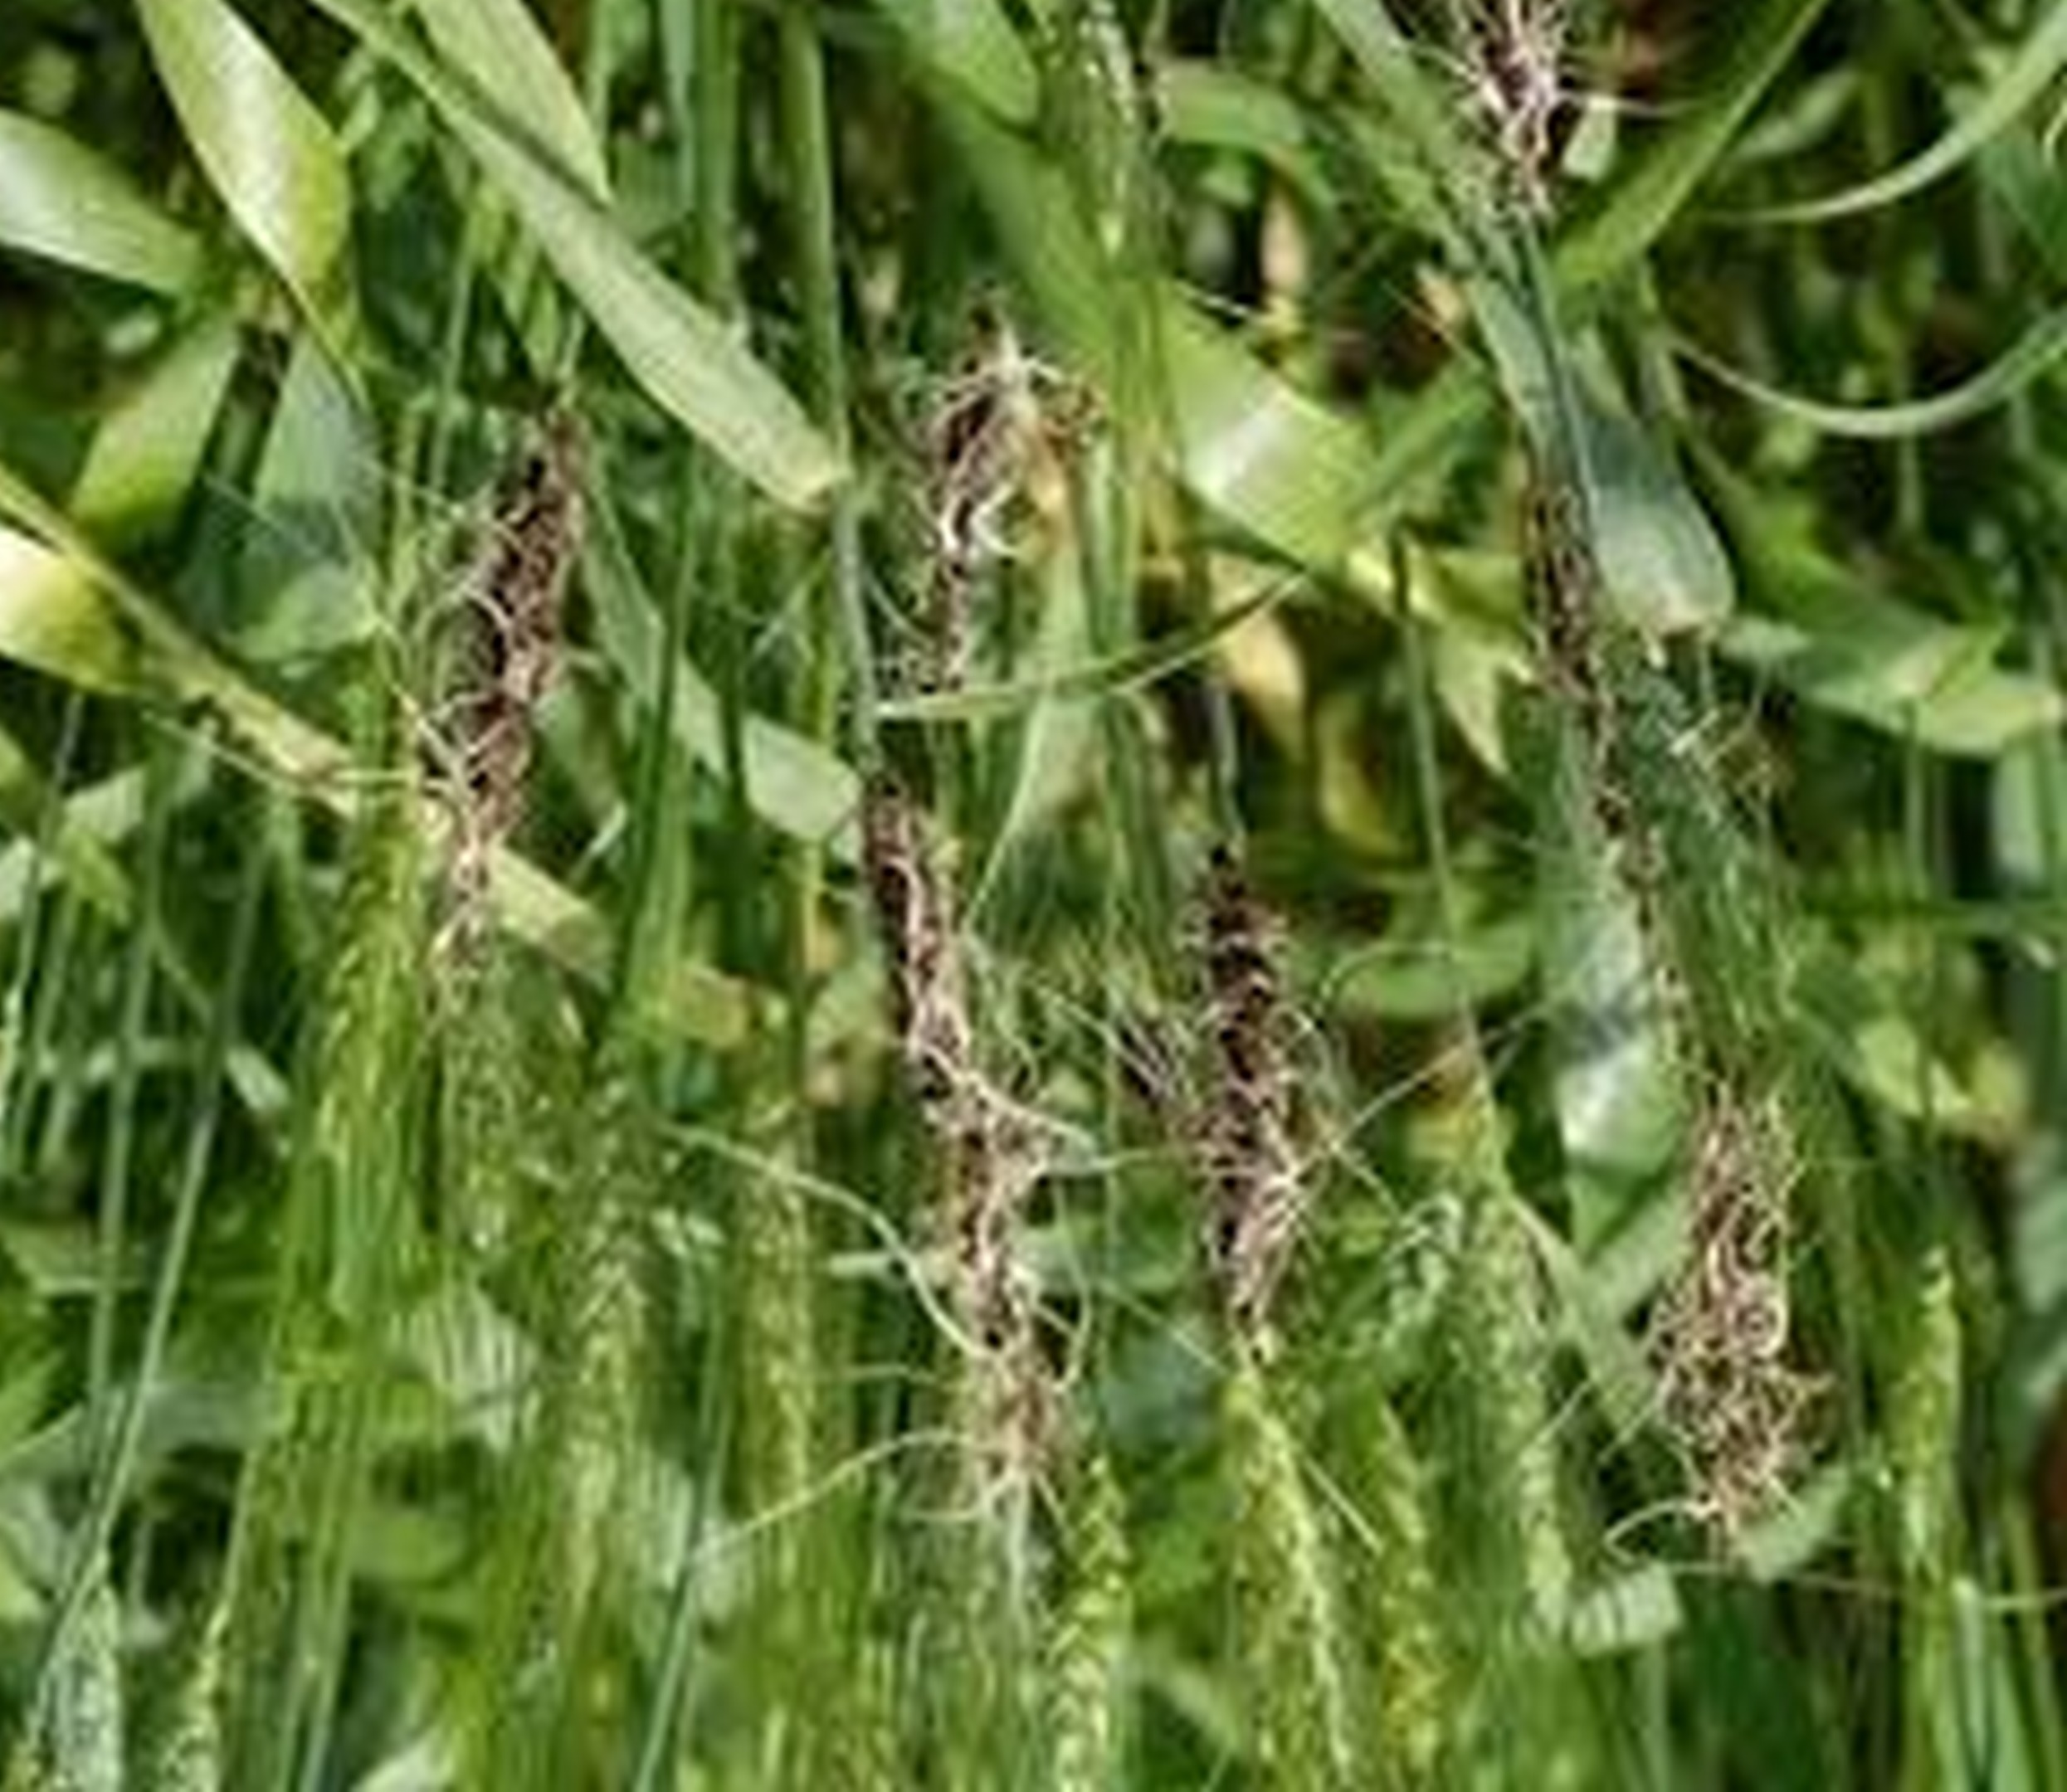Wheat Loose Smut: (859, 798, 1352, 1370)
